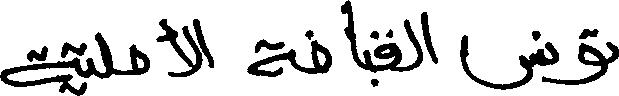X: (461, 26, 543, 94), (0, 37, 77, 95), (248, 34, 294, 81), (577, 24, 605, 89), (376, 24, 399, 90), (169, 21, 192, 81), (194, 14, 213, 77), (404, 9, 421, 75), (96, 27, 113, 83), (312, 26, 330, 78), (423, 7, 436, 68), (345, 0, 356, 67), (131, 39, 149, 79), (545, 37, 556, 88), (365, 28, 371, 88), (609, 37, 618, 67), (87, 53, 93, 82)
